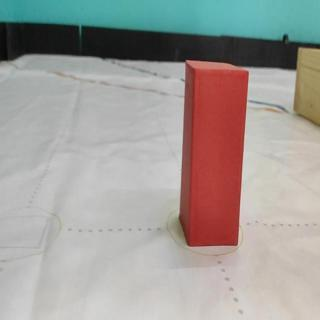redbox: (181, 60, 248, 247)
